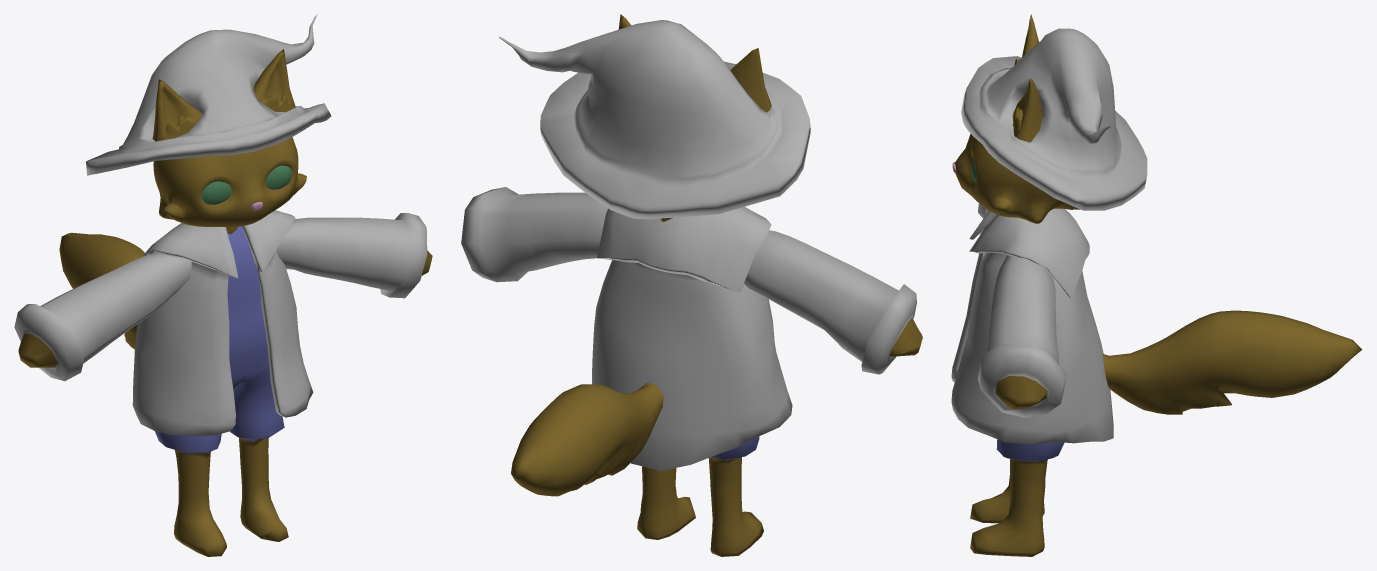
3 renders of one model, left to right at view 1: azimuth 30°, elevation 25°; view 2: azimuth 150°, elevation 25°; view 3: azimuth 270°, elevation 25°, orthographic. The views are drawn at different scales.
Parts seen in each view (by area): view 1: Jacket, arms, hat_retopo, body, head, ear, Tail, eyes; view 2: hat_retopo, Jacket, arms, Tail, body, ear; view 3: hat_retopo, Jacket, Tail, arms, body, head, ear.
Boxes of the visible parts, <box> form: Jacket: <box>132,210,313,435</box>; arms: <box>14,213,432,381</box>; hat_retopo: <box>86,14,331,175</box>; body: <box>155,226,288,556</box>; head: <box>153,137,306,226</box>; ear: <box>152,49,295,141</box>; Tail: <box>59,232,144,349</box>; eyes: <box>201,165,292,204</box>; hat_retopo: <box>499,20,810,219</box>; Jacket: <box>592,206,792,470</box>; arms: <box>461,187,922,374</box>; Tail: <box>511,383,663,496</box>; body: <box>637,436,763,556</box>; ear: <box>618,14,771,112</box>; hat_retopo: <box>961,28,1147,210</box>; Jacket: <box>951,208,1113,444</box>; Tail: <box>1103,310,1362,414</box>; arms: <box>978,203,1066,417</box>; body: <box>970,439,1064,556</box>; head: <box>955,111,1080,223</box>; ear: <box>1013,14,1043,142</box>.
Size of the model in its own units: 6.28 by 7.07 by 5.2.
